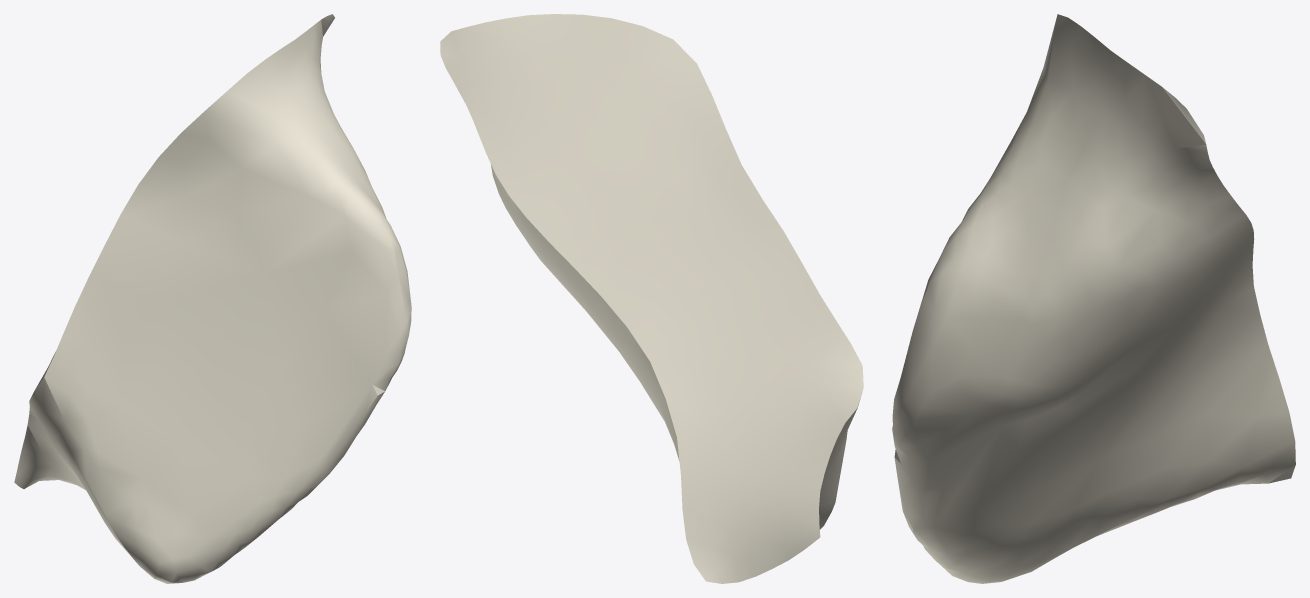
File: fma12077_mm2401.glb
3 renders of one model, left to right at view 1: azimuth 30°, elevation 25°; view 2: azimuth 150°, elevation 25°; view 3: azimuth 270°, elevation 25°, orthographic. The views are drawn at different scales.
Visible parts, largest first — view 1: FMA12077_MM2401; view 2: FMA12077_MM2401; view 3: FMA12077_MM2401.
Part boxes in pixels (bbox=[...]): FMA12077_MM2401: bbox=[14, 14, 411, 583]; FMA12077_MM2401: bbox=[440, 14, 863, 583]; FMA12077_MM2401: bbox=[892, 14, 1295, 583].
Bounding box in the file's own units: 0.011 × 0.0144 × 0.0083.
